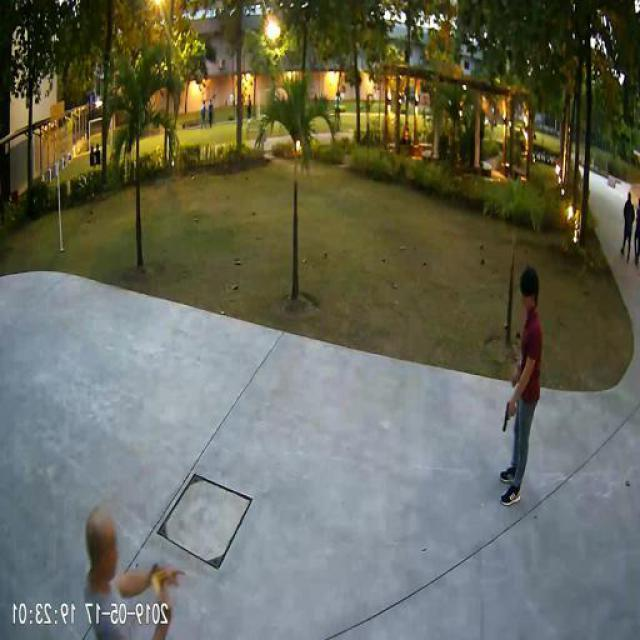Gun: (504, 398, 518, 432)
